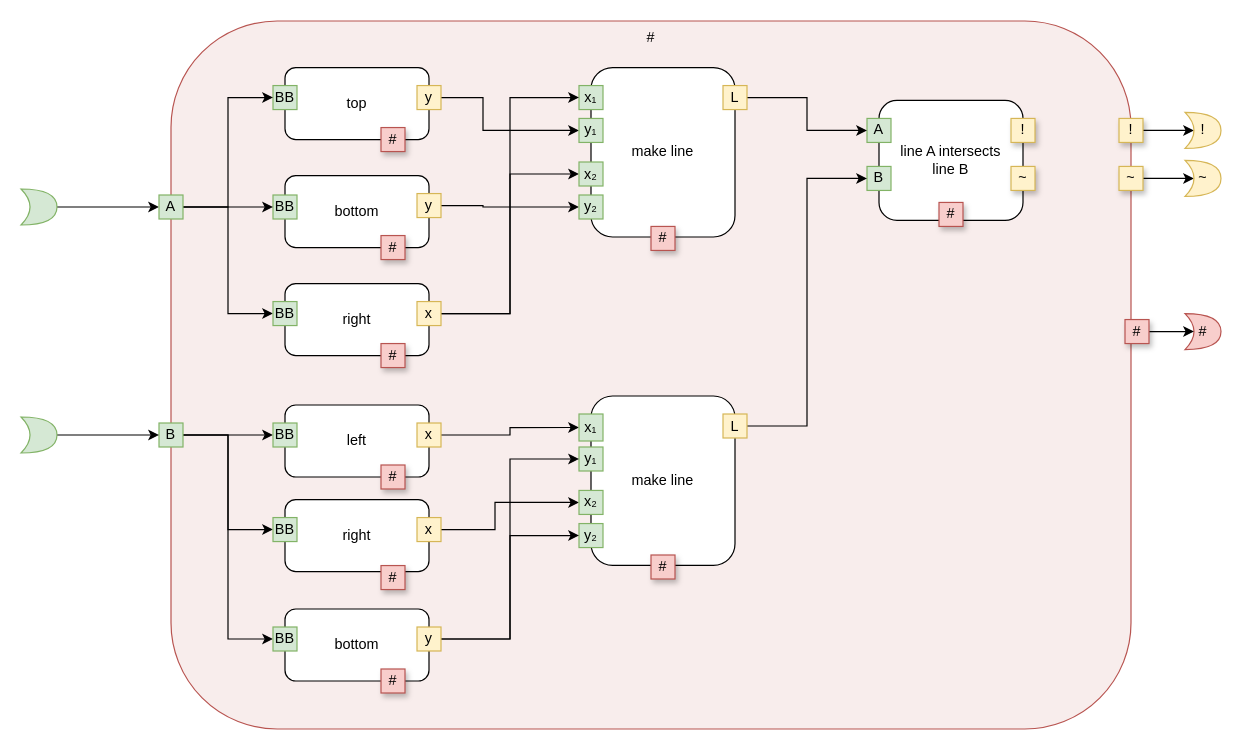
Some shapes in this 1242 by 750 pixel diagram are drawn without their labels. The centre of each missing label's shape, as x and y in pixels:
BB1: the point at 38,206
BB2: the point at 38,434
